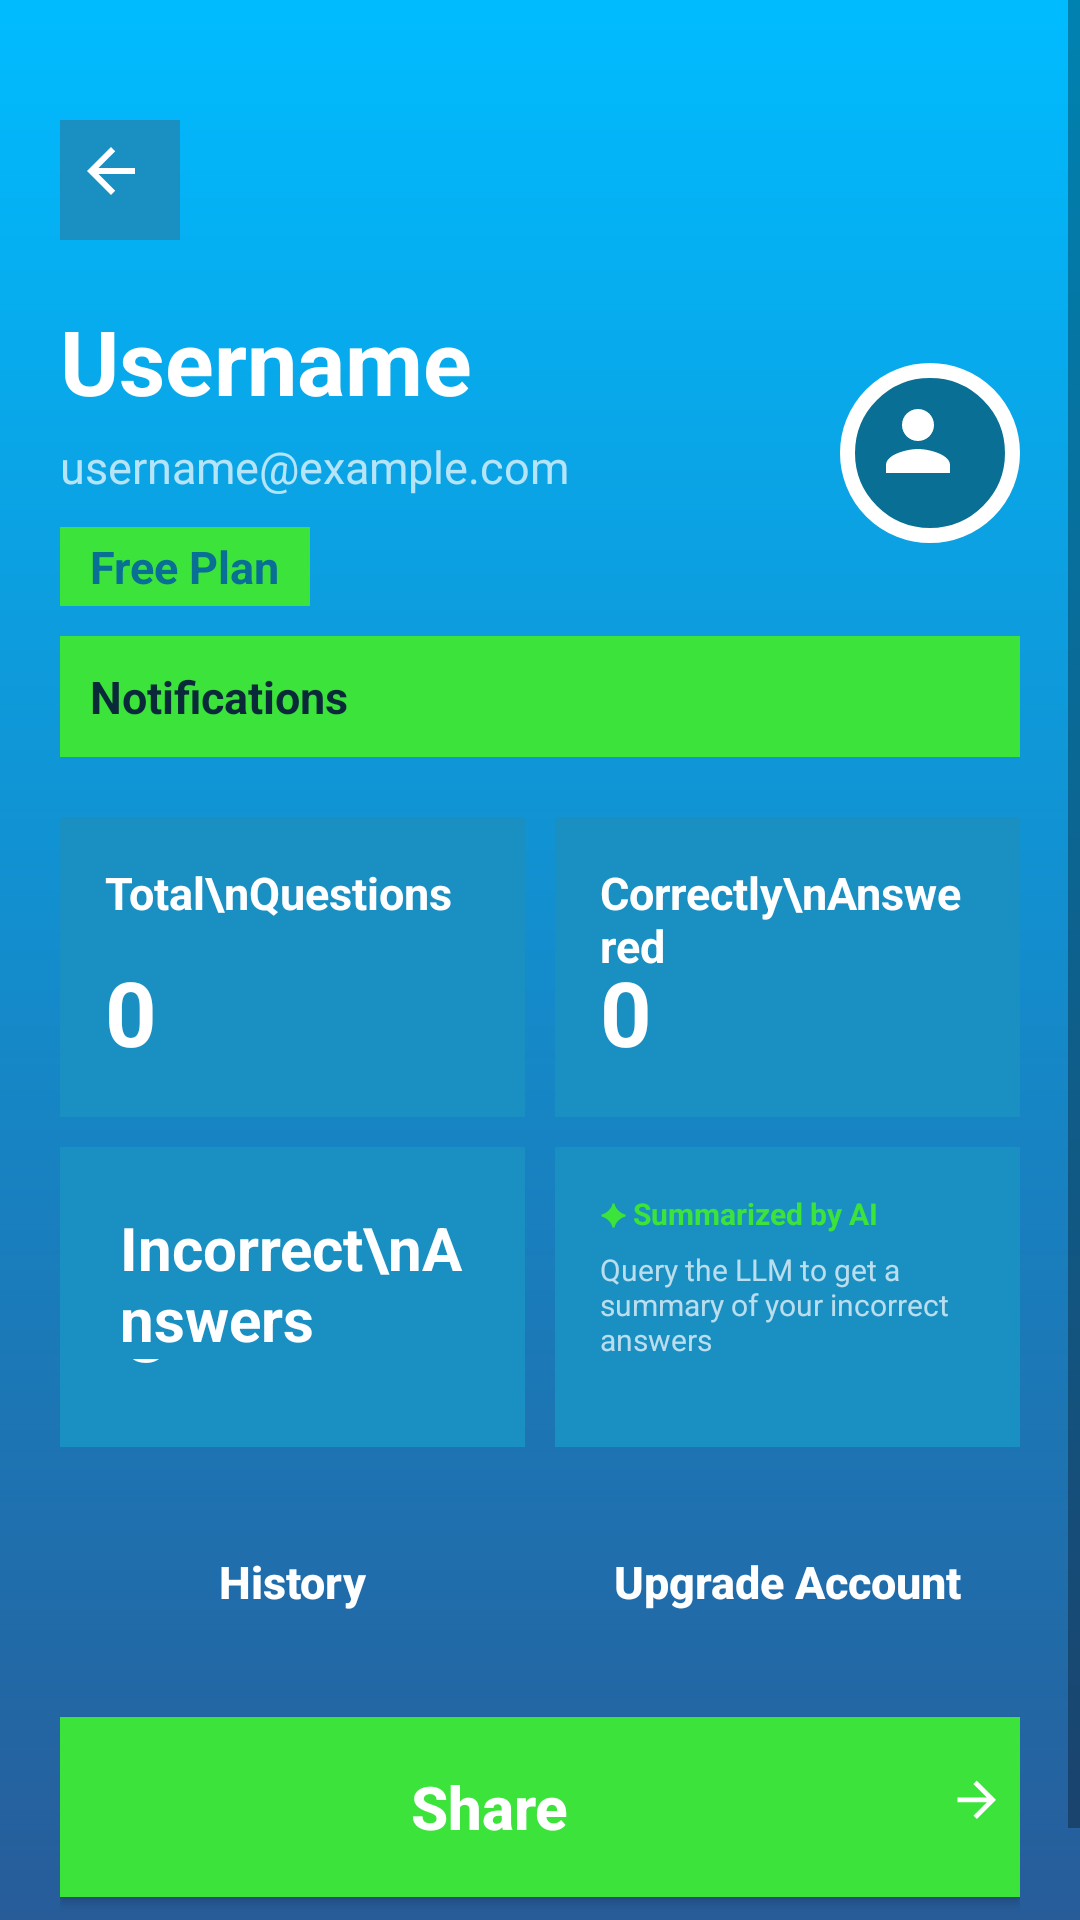

Screen size 1080 x 1920. Icon name, then its center in pixels as [x,y]:
Back: [120,180]
